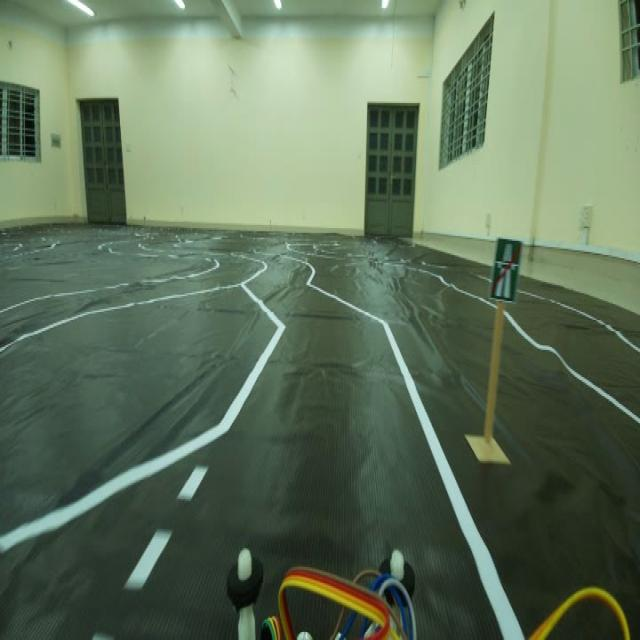highway_exit: (490, 230, 522, 318)
